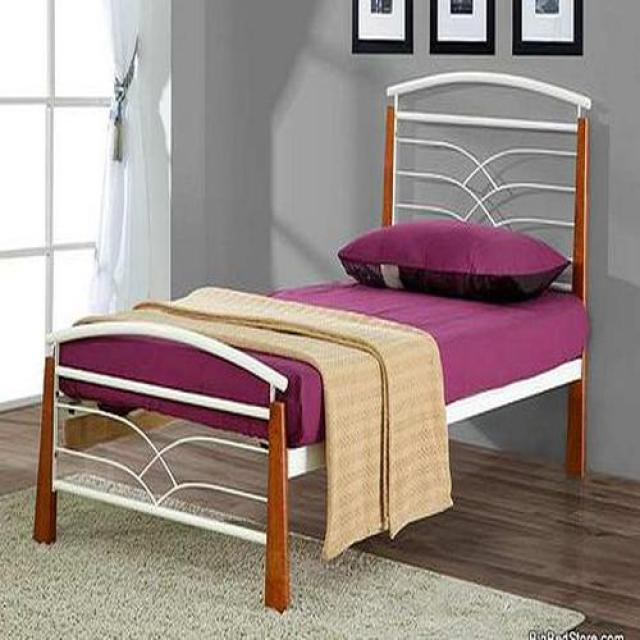bed: (36, 72, 594, 614)
